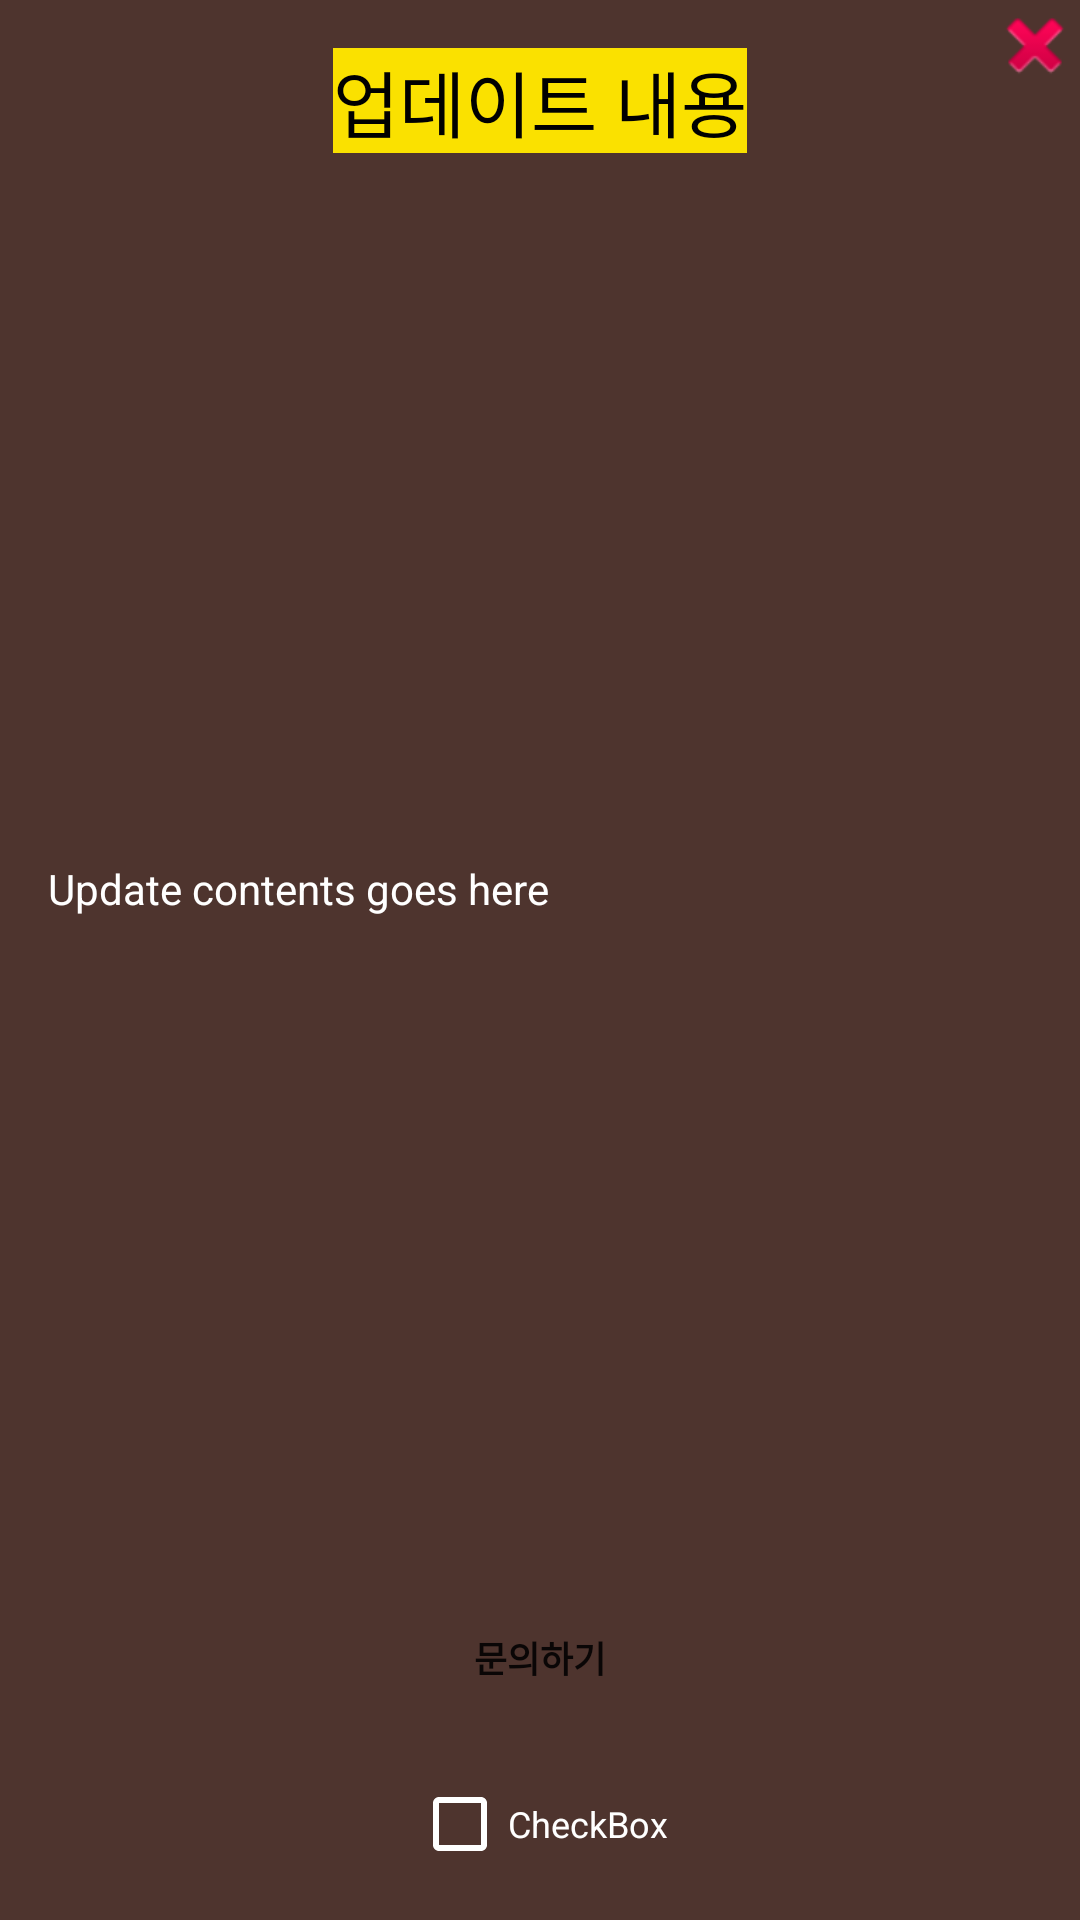

Screen size 1080px×1920px. Icon name, then its box in pixels as rect(x1, y1, x2, y2):
delete: rect(1007, 18, 1063, 73)
